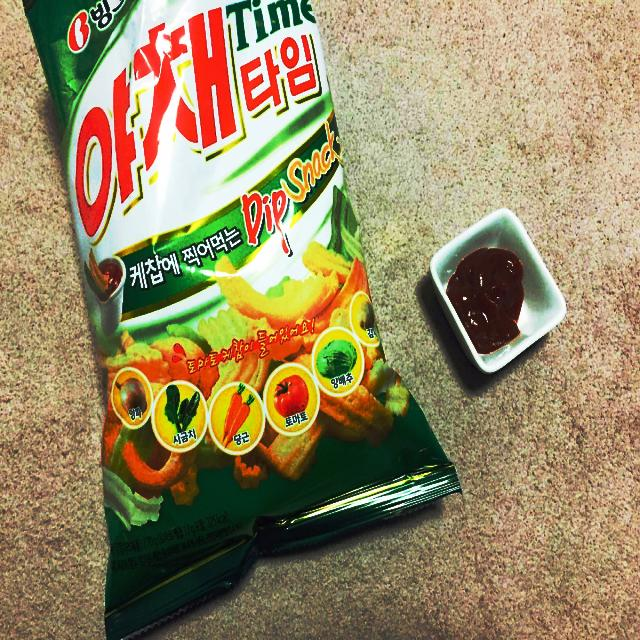ketchup: (447, 246, 527, 359)
